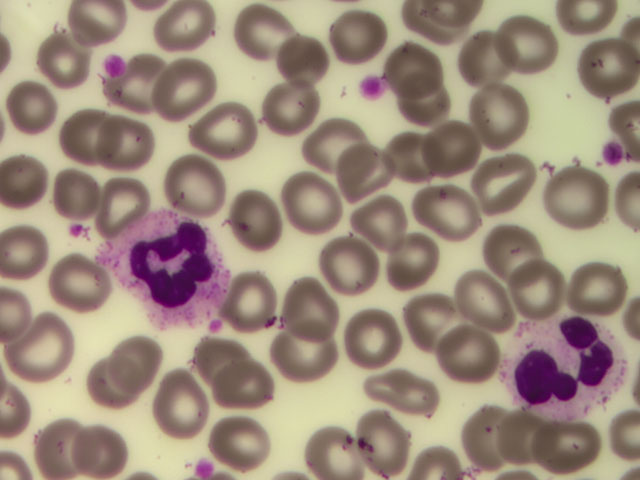Platelets: (591, 141, 624, 169), (356, 70, 382, 102), (194, 461, 216, 477), (105, 55, 122, 73)
RBC: (66, 418, 125, 480), (8, 418, 67, 480), (289, 418, 348, 480), (36, 33, 95, 94), (15, 82, 74, 143), (149, 1, 208, 62), (158, 55, 217, 116), (108, 61, 167, 122), (101, 109, 160, 170), (62, 115, 121, 176), (45, 161, 104, 222), (74, 171, 133, 232), (6, 148, 65, 209), (47, 254, 106, 315), (16, 326, 75, 387), (76, 354, 135, 415), (117, 334, 176, 395), (155, 377, 214, 438), (222, 413, 281, 474), (216, 357, 275, 418), (190, 322, 249, 383), (270, 325, 329, 386), (278, 280, 337, 341), (234, 270, 293, 331), (225, 184, 284, 245), (178, 156, 237, 217), (197, 103, 256, 164), (269, 76, 328, 137), (269, 32, 328, 93), (239, 12, 298, 73), (342, 5, 401, 66), (379, 36, 438, 97), (401, 76, 460, 137), (421, 116, 480, 177), (392, 130, 451, 191), (336, 146, 395, 207), (303, 108, 362, 169), (273, 166, 332, 227), (323, 238, 382, 299), (362, 190, 421, 251), (383, 221, 442, 282), (409, 179, 468, 240), (470, 161, 529, 222), (476, 99, 535, 160), (457, 34, 516, 95), (504, 17, 563, 78), (570, 38, 629, 99), (545, 166, 604, 227), (480, 223, 539, 284), (515, 257, 574, 318), (567, 250, 626, 311), (453, 274, 512, 335), (435, 328, 494, 389), (402, 295, 461, 356), (349, 307, 408, 368), (378, 363, 437, 424), (356, 410, 415, 471), (455, 409, 514, 470), (489, 407, 548, 468), (542, 416, 601, 477), (68, 1, 127, 61), (1, 233, 59, 294)
WBC: (503, 314, 625, 422), (117, 212, 229, 325)
